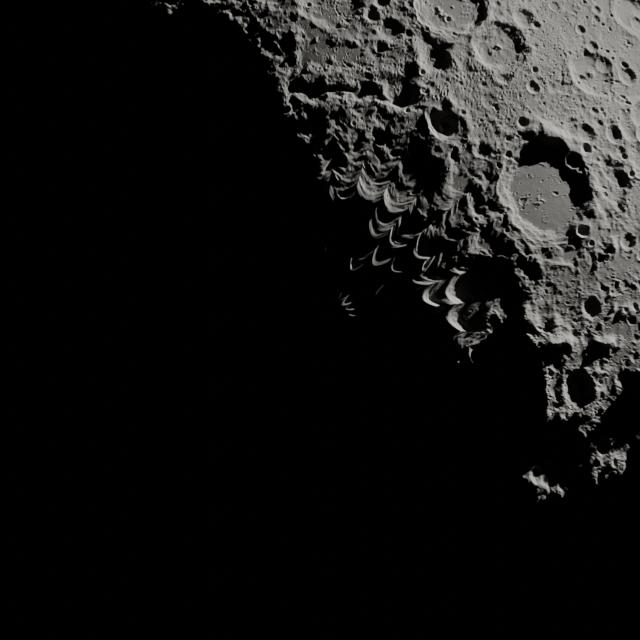crater: (422, 104, 462, 141), (391, 71, 427, 109), (566, 369, 598, 408), (273, 29, 299, 61), (427, 42, 455, 71), (356, 78, 385, 101), (582, 295, 604, 318), (382, 16, 406, 37), (564, 150, 585, 172), (613, 168, 632, 189), (366, 5, 383, 21), (575, 223, 592, 239), (374, 39, 392, 54), (580, 122, 596, 137), (610, 124, 624, 140), (527, 78, 541, 94), (518, 115, 532, 128), (584, 238, 596, 248), (621, 60, 632, 70), (417, 66, 427, 76), (576, 24, 586, 34), (592, 6, 602, 14), (492, 44, 502, 52), (566, 244, 576, 252), (531, 66, 540, 74), (458, 107, 467, 115), (444, 14, 452, 22), (551, 190, 560, 196), (422, 25, 429, 32), (526, 173, 533, 179), (539, 178, 545, 184), (449, 5, 455, 11)
rock: (602, 238, 637, 284), (608, 318, 640, 348), (378, 80, 401, 103), (611, 307, 633, 327), (477, 140, 497, 157), (542, 316, 560, 333), (622, 66, 636, 82), (624, 233, 638, 249), (602, 242, 617, 256), (596, 444, 610, 456), (584, 47, 597, 58), (582, 142, 593, 153), (364, 70, 375, 81), (620, 94, 632, 104), (589, 41, 599, 51), (504, 148, 514, 158), (308, 36, 318, 46), (532, 19, 542, 28), (627, 169, 635, 178), (592, 106, 601, 114)
